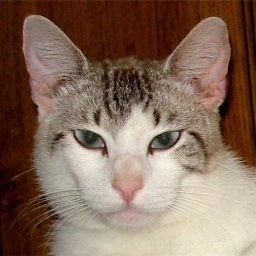cat: (16, 13, 256, 256)
